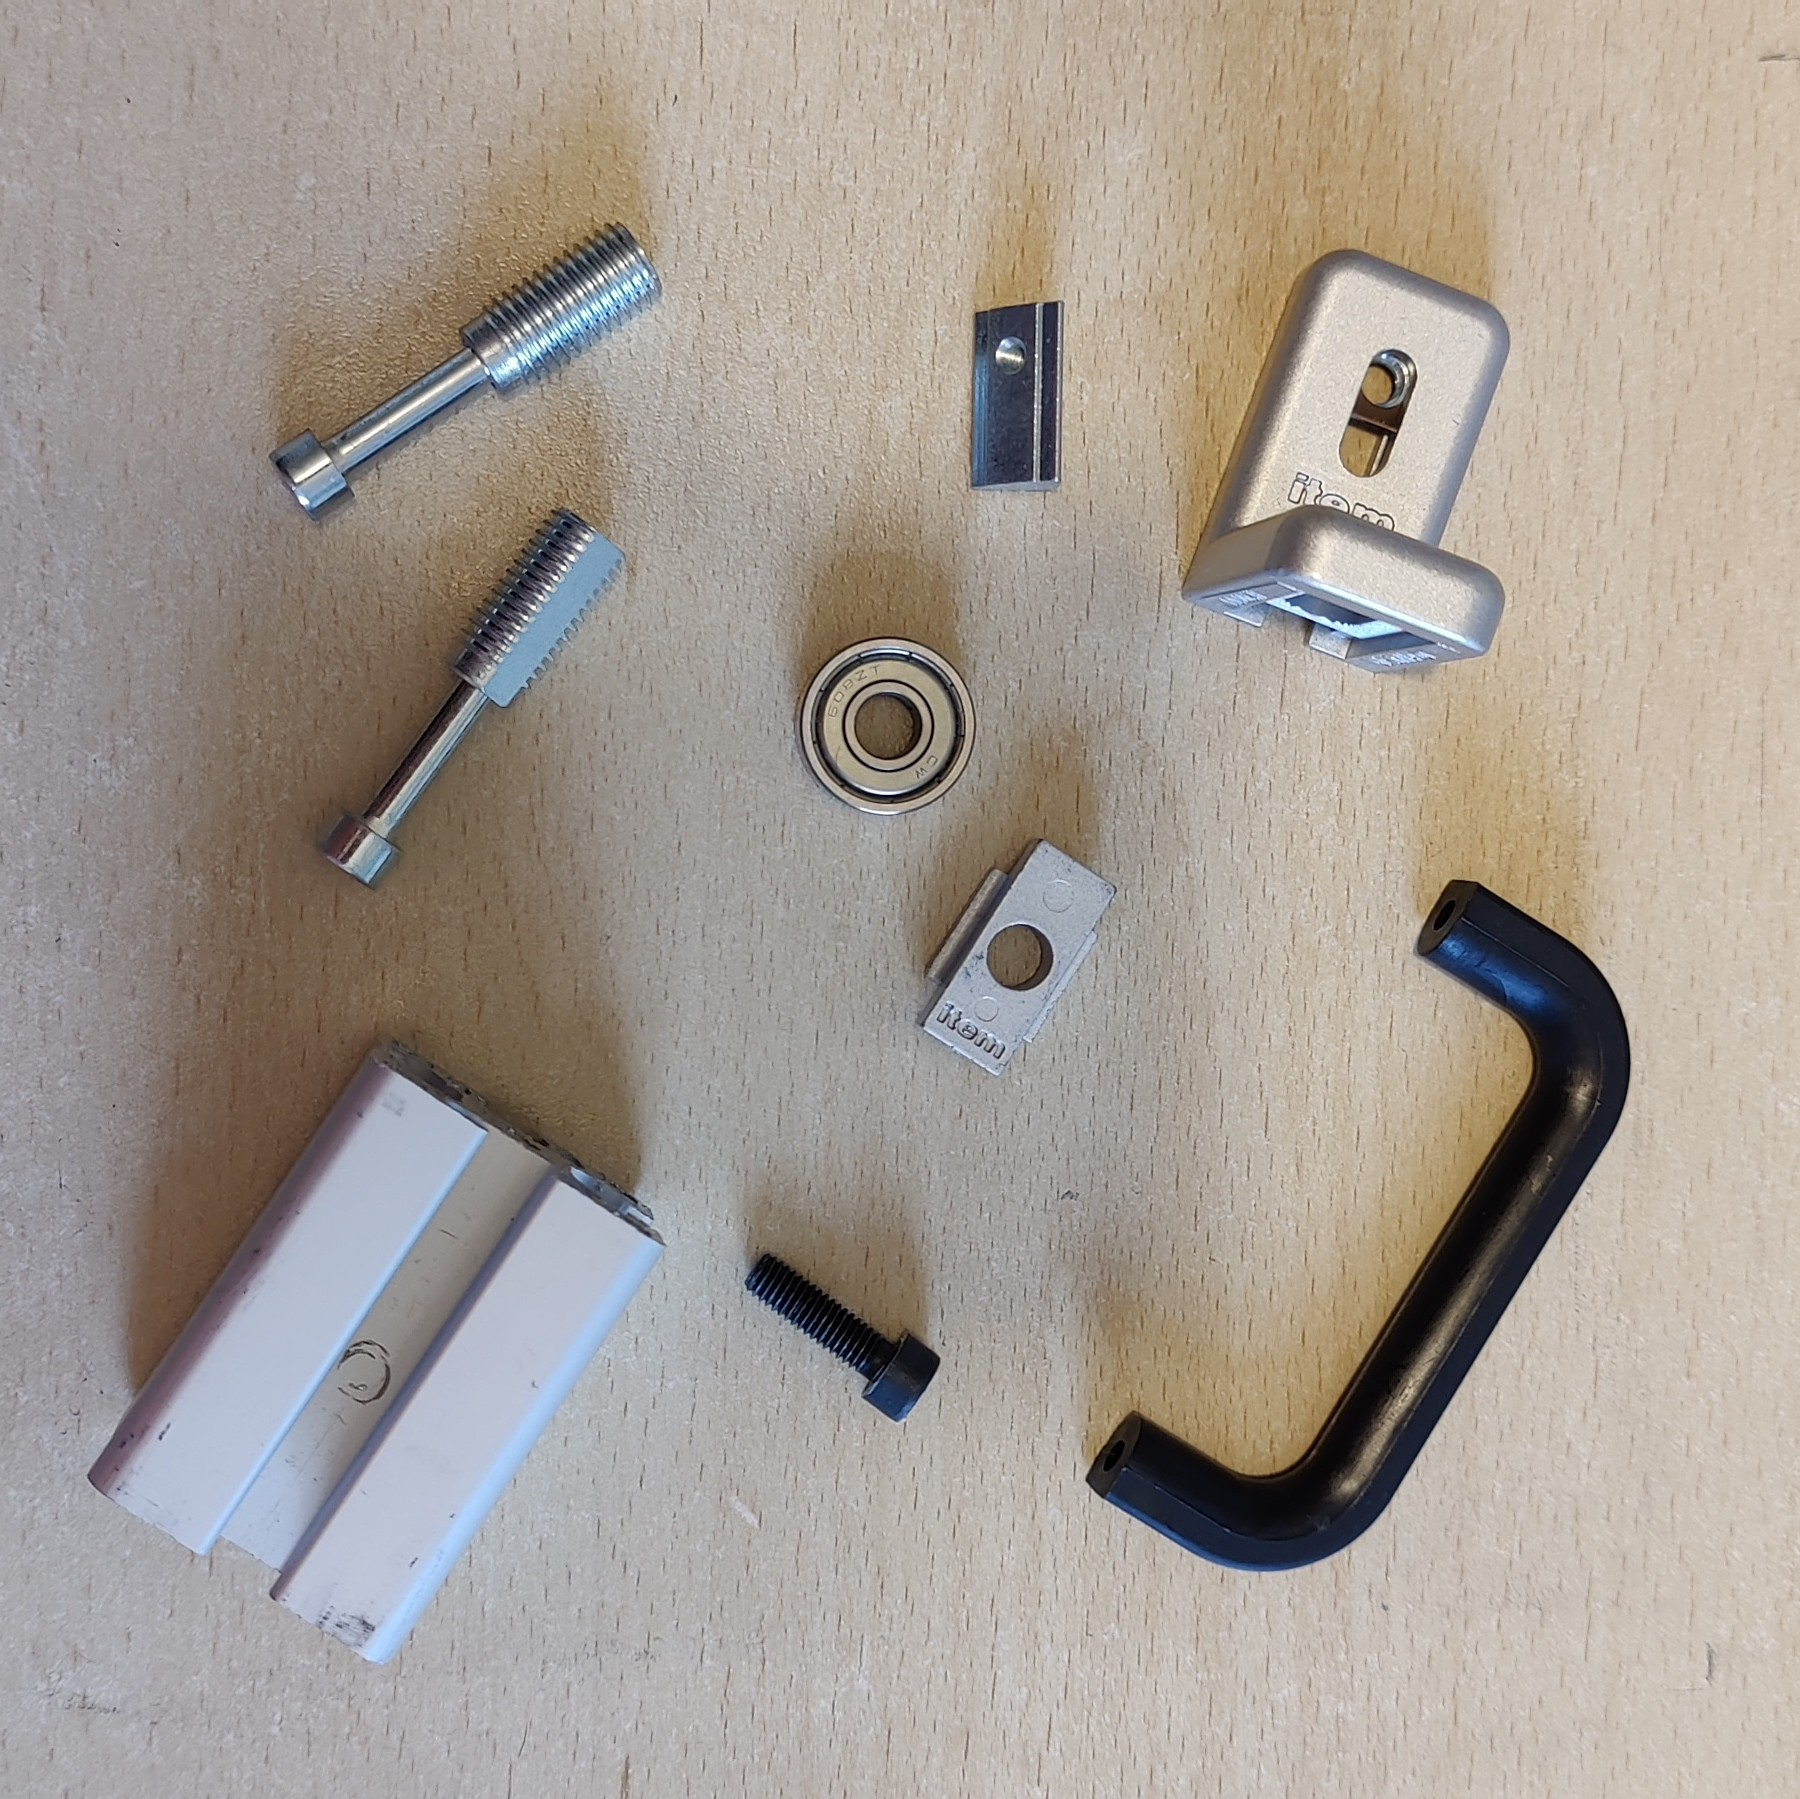Aluminium Extension: (86, 1035, 670, 1670)
Ball Bearing: (794, 633, 978, 819)
Multiwinkel: (1177, 244, 1515, 679)
Pull Handle: (1082, 876, 1635, 1575)
Shoulder Socket Head Cap Screw: (311, 501, 631, 895), (265, 217, 664, 522)
Socket Head Cap Screw: (738, 1245, 944, 1425)
T Nut Square: (912, 834, 1118, 1082)
T Spring Nut: (963, 297, 1069, 494)
